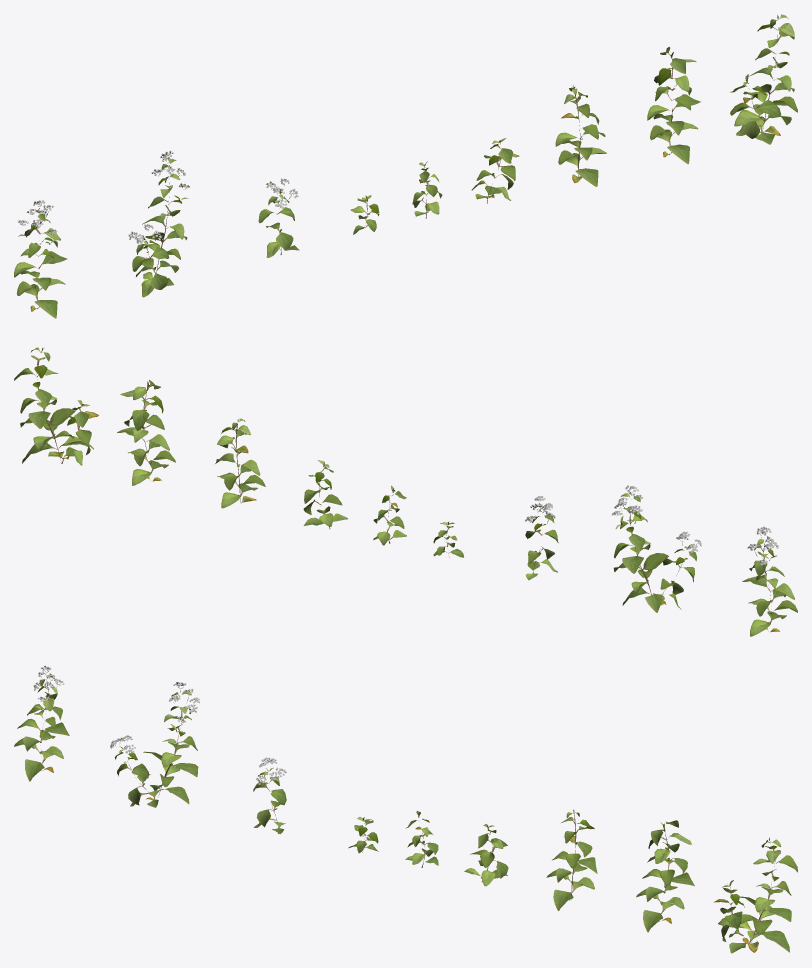
Rendered from shrub_01.glb.
The picture shows the model from 3 angles, top to bottom: view 1: azimuth 30°, elevation 25°; view 2: azimuth 150°, elevation 25°; view 3: azimuth 330°, elevation 25°; orthographic projection. The views are drawn at different scales.
Visible parts, largest first — view 1: shrub_01_a; view 2: shrub_01_a; view 3: shrub_01_a.
Boxes of the visible parts, left/top/right/bottom form: shrub_01_a: left=14, top=14, right=797, bottom=318; shrub_01_a: left=14, top=347, right=797, bottom=636; shrub_01_a: left=14, top=665, right=797, bottom=953.
Bounding box in the file's own units: 2.59 × 0.3965 × 0.2195.
Materials: 1 (1 with a texture image).
